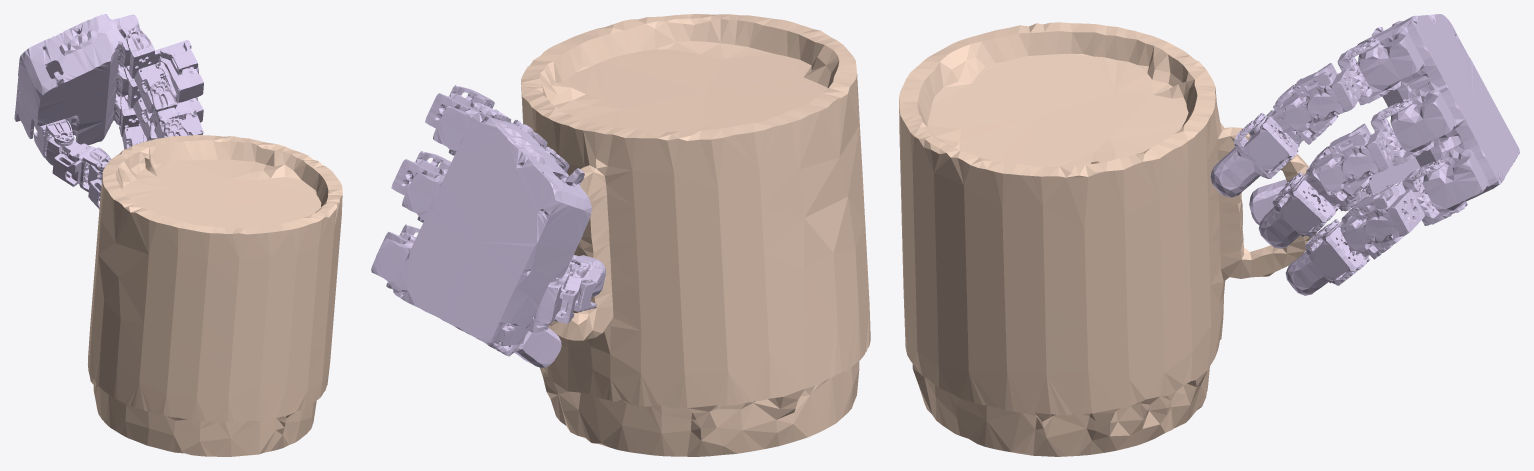
The model's file is 34d310242619c6-closed.glb.
3 renders of one model, left to right at view 1: azimuth 30°, elevation 25°; view 2: azimuth 150°, elevation 25°; view 3: azimuth 270°, elevation 25°, orthographic. The views are drawn at different scales.
Visible parts, largest first — view 1: world, LEAP_hand; view 2: world, LEAP_hand; view 3: world, LEAP_hand.
Part boxes in pixels (x1,y1,x2,y2): world: [87, 135, 342, 456]; LEAP_hand: [14, 14, 203, 208]; world: [521, 14, 870, 456]; LEAP_hand: [371, 85, 605, 367]; world: [899, 22, 1316, 456]; LEAP_hand: [1210, 14, 1519, 295].
Size of the model in its own units: 0.2178 by 0.2847 by 0.403.
